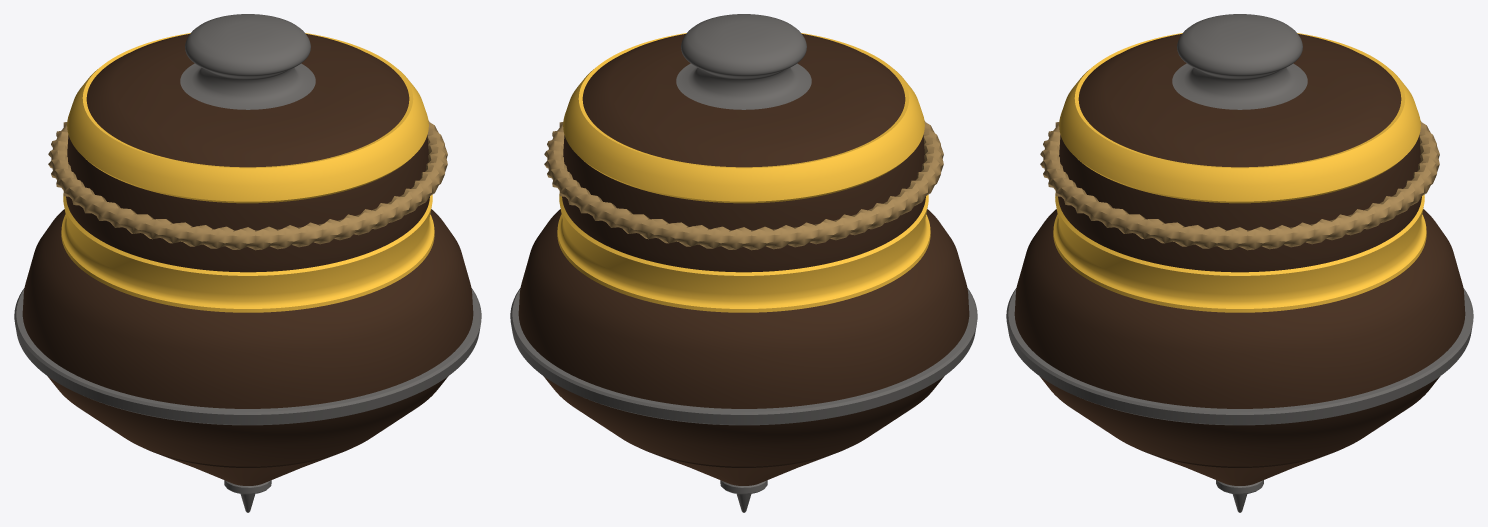
The model's file is gasing_johor.glb.
3 views of the same model, side by side, from view 1: azimuth 30°, elevation 25°; view 2: azimuth 150°, elevation 25°; view 3: azimuth 270°, elevation 25° (orthographic).
Visible parts, largest first — view 1: Gasing_johor; view 2: Gasing_johor; view 3: Gasing_johor.
Boxes of the visible parts, <box> form: Gasing_johor: <box>14,14,481,512</box>; Gasing_johor: <box>510,14,977,512</box>; Gasing_johor: <box>1006,14,1473,512</box>.
Bounding box in the file's own units: 0.88 × 1 × 0.88.
